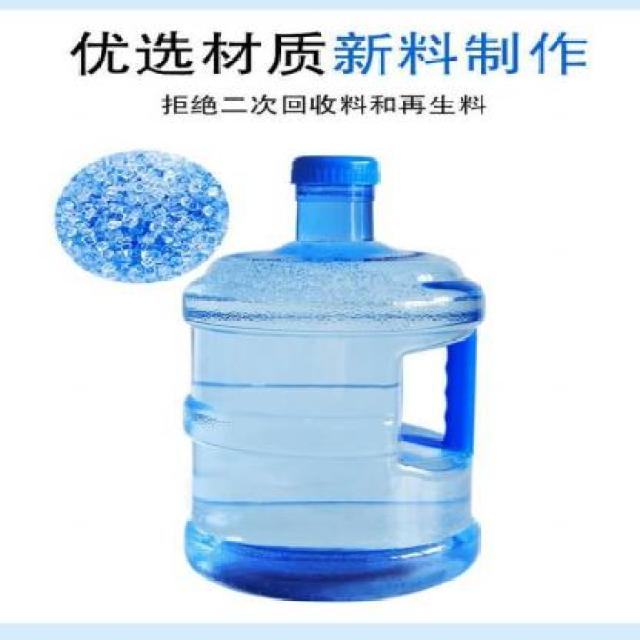coolerbottle: (174, 149, 494, 606)
